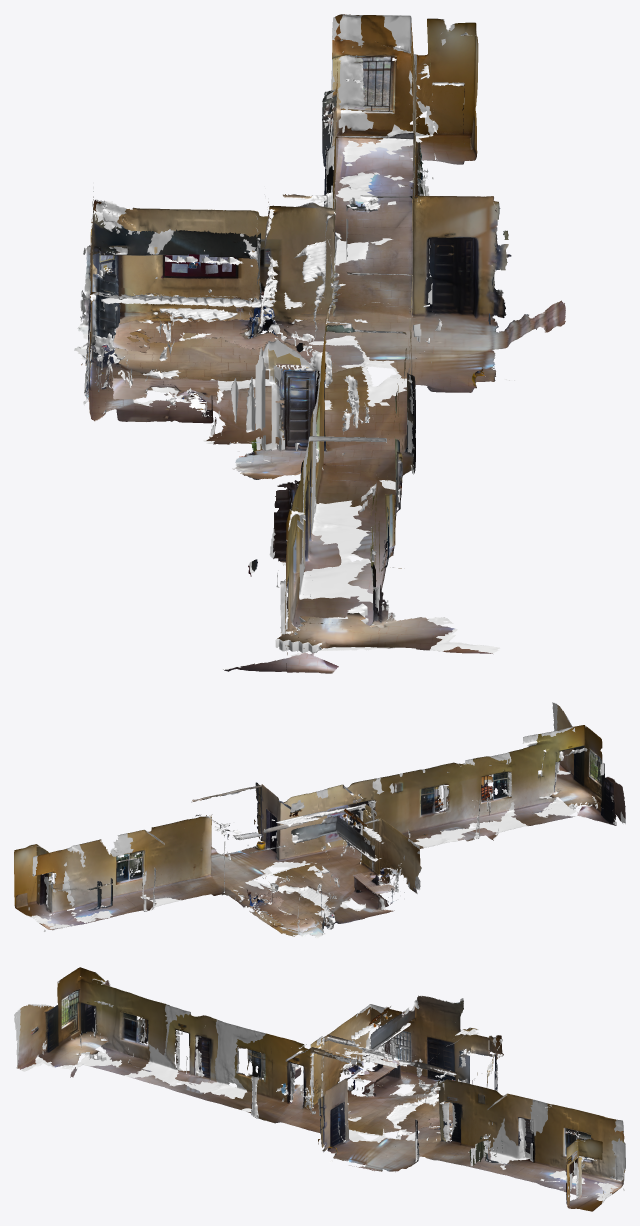
3 views of the same model, one above another, from view 1: azimuth 30°, elevation 25°; view 2: azimuth 150°, elevation 25°; view 3: azimuth 270°, elevation 25° (orthographic). The views are drawn at different scales.
Visible parts, largest first — view 1: object 10, texture_7, texture_19, texture_1, texture_17, texture_3, texture_18, texture_15, texture_29, texture_20, texture_12, texture_8 (+11 smaller); view 2: object 10, texture_4, texture_2, texture_8, texture_21, texture_20, texture_10, texture_1, texture_16, texture_13, texture_6, texture_12 (+10 smaller); view 3: object 10, texture_12, texture_0, texture_5, texture_8, texture_10, texture_9, texture_26, texture_2, texture_13, texture_21, texture_18 (+12 smaller).
Part boxes in pixels (<box>): object 10: <box>78,14,564,669</box>; texture_7: <box>354,187,565,380</box>; texture_19: <box>77,191,227,373</box>; texture_1: <box>322,14,475,205</box>; texture_17: <box>239,157,390,365</box>; texture_3: <box>232,319,405,487</box>; texture_18: <box>89,210,364,396</box>; texture_15: <box>384,22,478,164</box>; texture_29: <box>157,113,422,335</box>; texture_20: <box>283,166,508,343</box>; texture_12: <box>74,210,196,421</box>; texture_8: <box>85,251,284,444</box>; object 10: <box>27,702,625,937</box>; texture_4: <box>380,756,506,842</box>; texture_2: <box>460,730,584,825</box>; texture_8: <box>317,808,413,909</box>; texture_21: <box>199,782,338,879</box>; texture_20: <box>153,798,246,895</box>; texture_10: <box>553,705,616,825</box>; texture_1: <box>19,839,112,930</box>; texture_16: <box>115,817,217,900</box>; texture_13: <box>267,788,372,914</box>; texture_6: <box>324,778,423,855</box>; texture_12: <box>296,832,421,938</box>; object 10: <box>14,972,625,1203</box>; texture_12: <box>346,995,476,1112</box>; texture_0: <box>166,1014,299,1100</box>; texture_5: <box>58,967,148,1062</box>; texture_8: <box>298,1006,407,1118</box>; texture_10: <box>17,982,96,1069</box>; texture_9: <box>461,1087,556,1180</box>; texture_26: <box>507,1103,623,1206</box>; texture_2: <box>45,989,172,1086</box>; texture_13: <box>297,1036,452,1132</box>; texture_21: <box>318,1072,383,1158</box>; texture_18: <box>374,1013,497,1140</box>.
Size of the model in its own units: 19.53 by 4.82 by 26.26.
24 materials, 23 textured.
